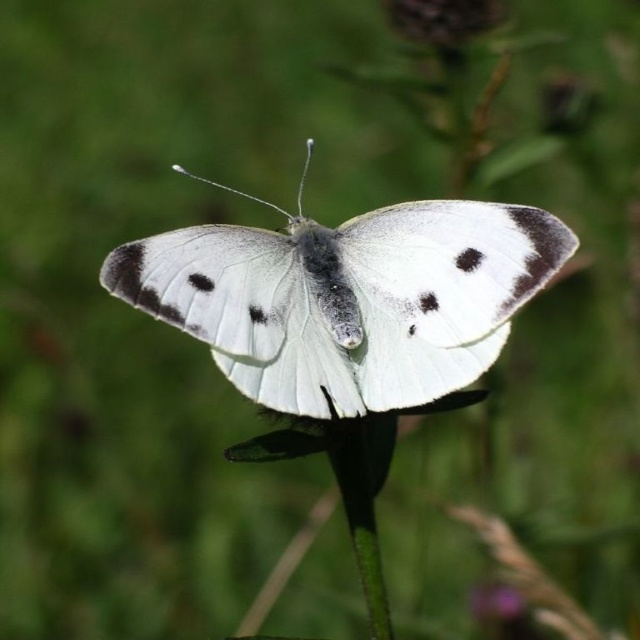Butterfly: (99, 138, 581, 421)
